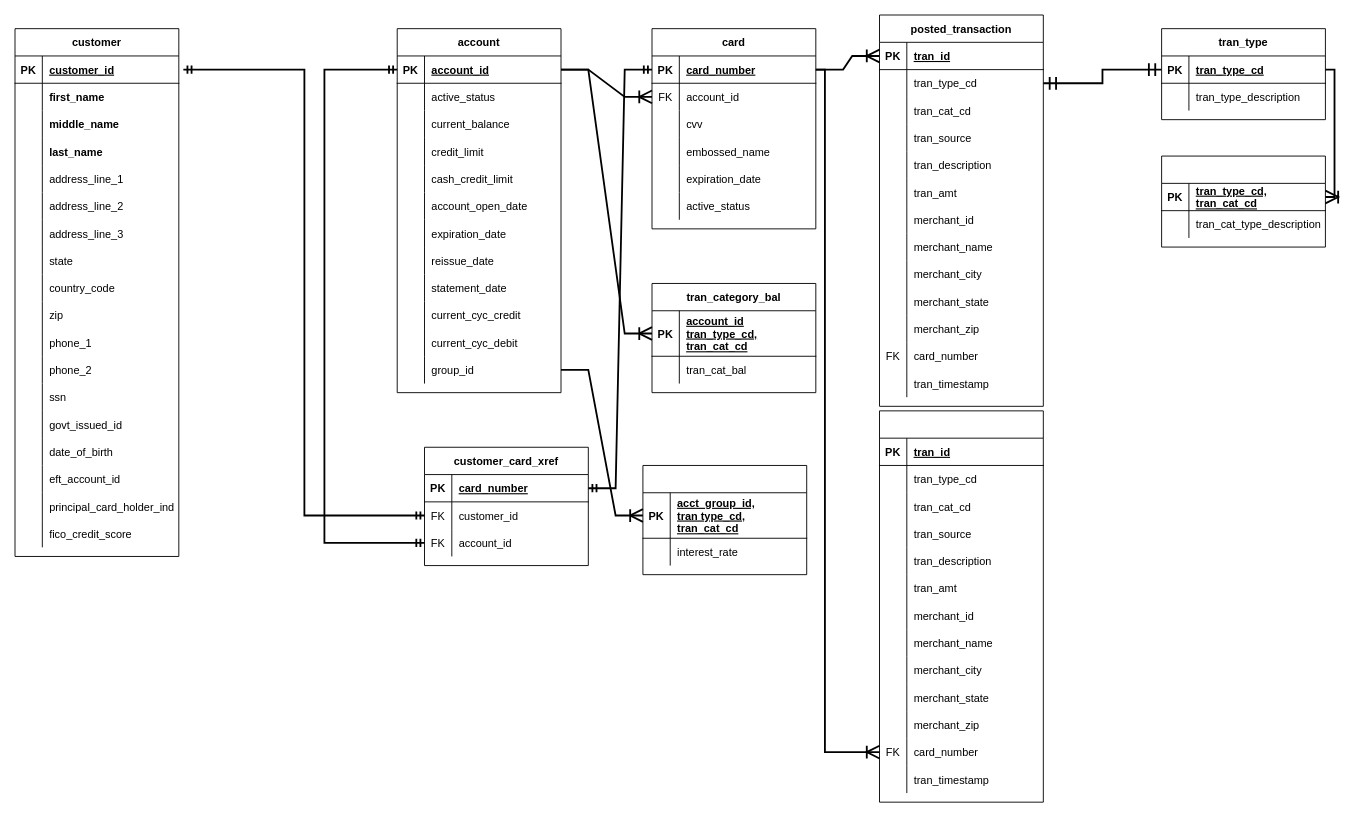
The diagram is 1353 pixels wide and 817 high, and some of its shapes have lost their labels. The box of each missing label's shape, as (x1, y1, x2, y2) in pixels:
disclosure_group: (642, 465, 807, 575)
tran_category: (1161, 155, 1325, 247)
transaction_history (day2): (879, 410, 1043, 802)
